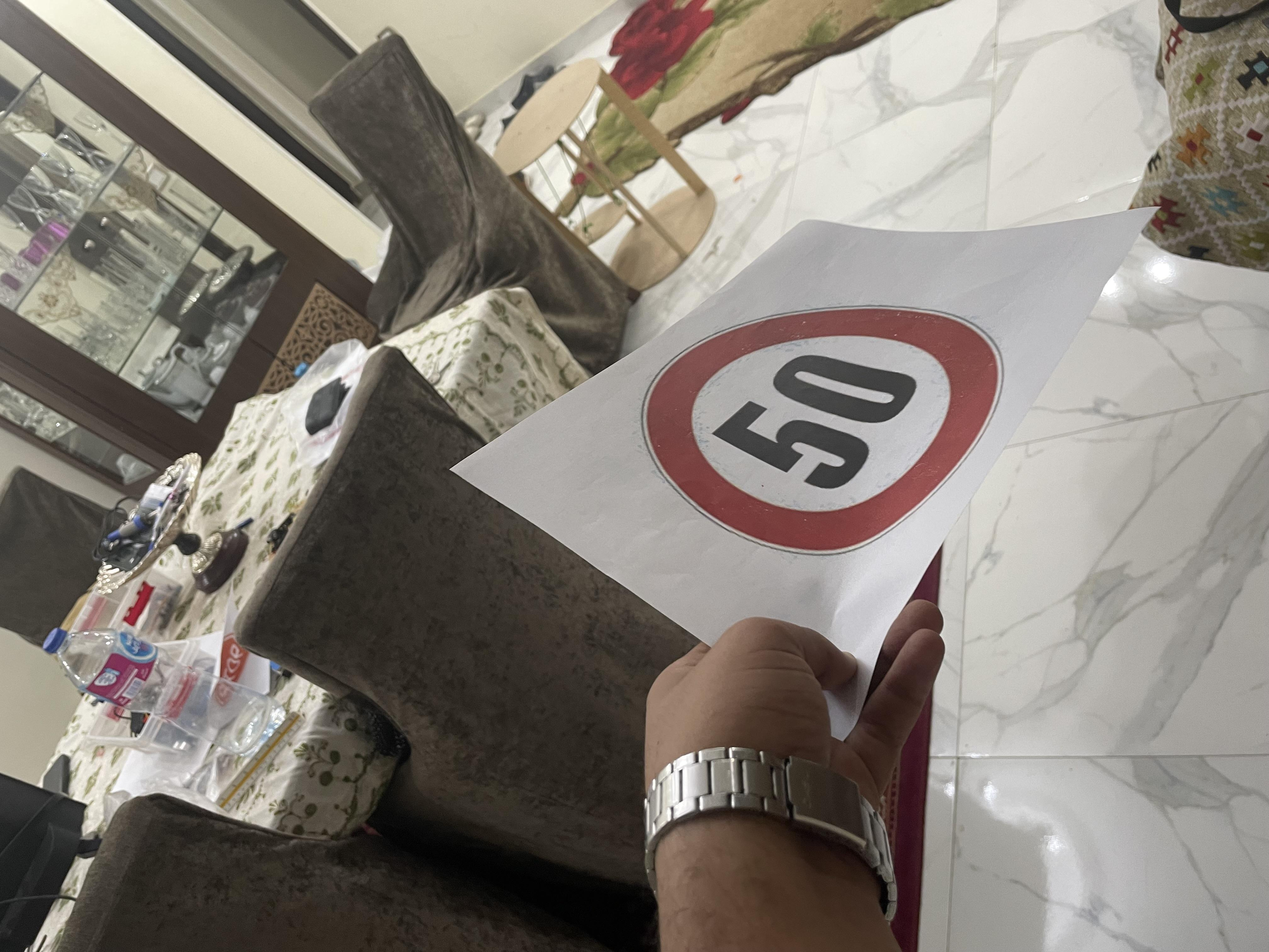50-Speed: (521, 473, 885, 759)
